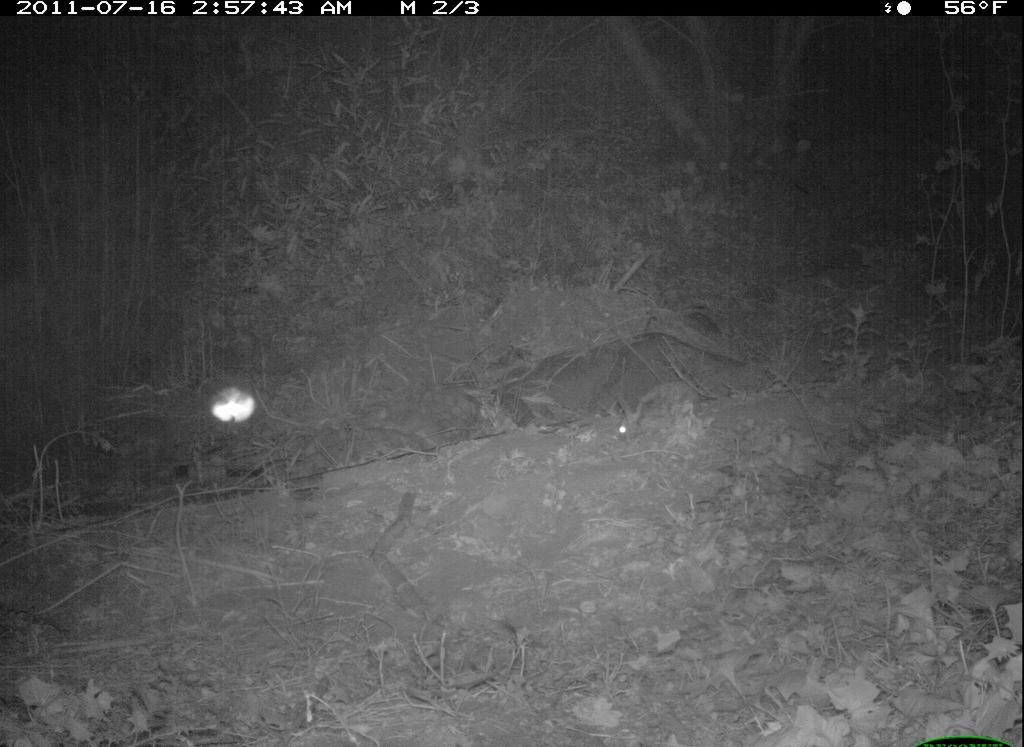rabbit: (610, 379, 710, 452)
